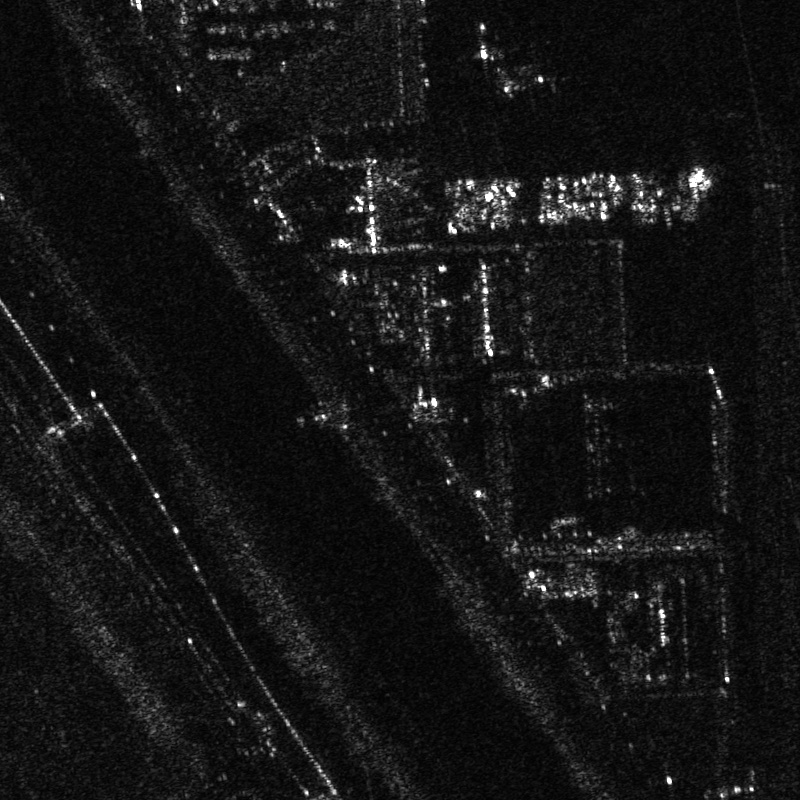A220: (461, 19, 507, 73)
other: (483, 69, 549, 103)
